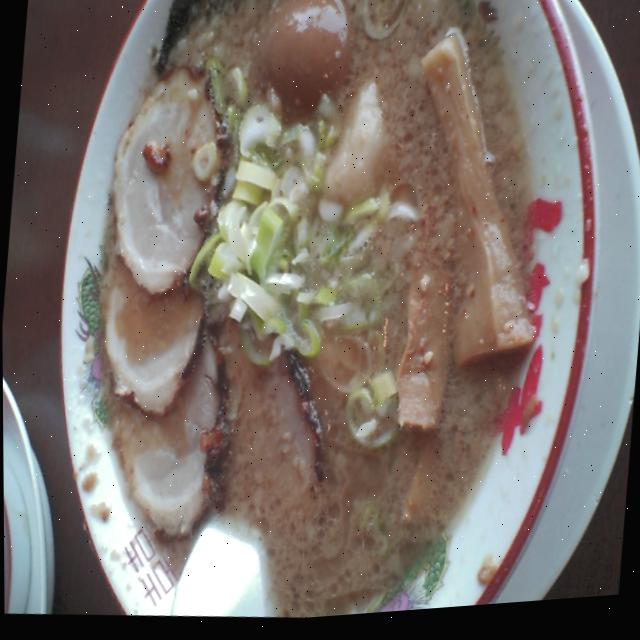面条主食: (28, 0, 446, 638)
